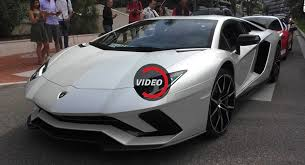Lamborghini: (57, 14, 234, 143)
